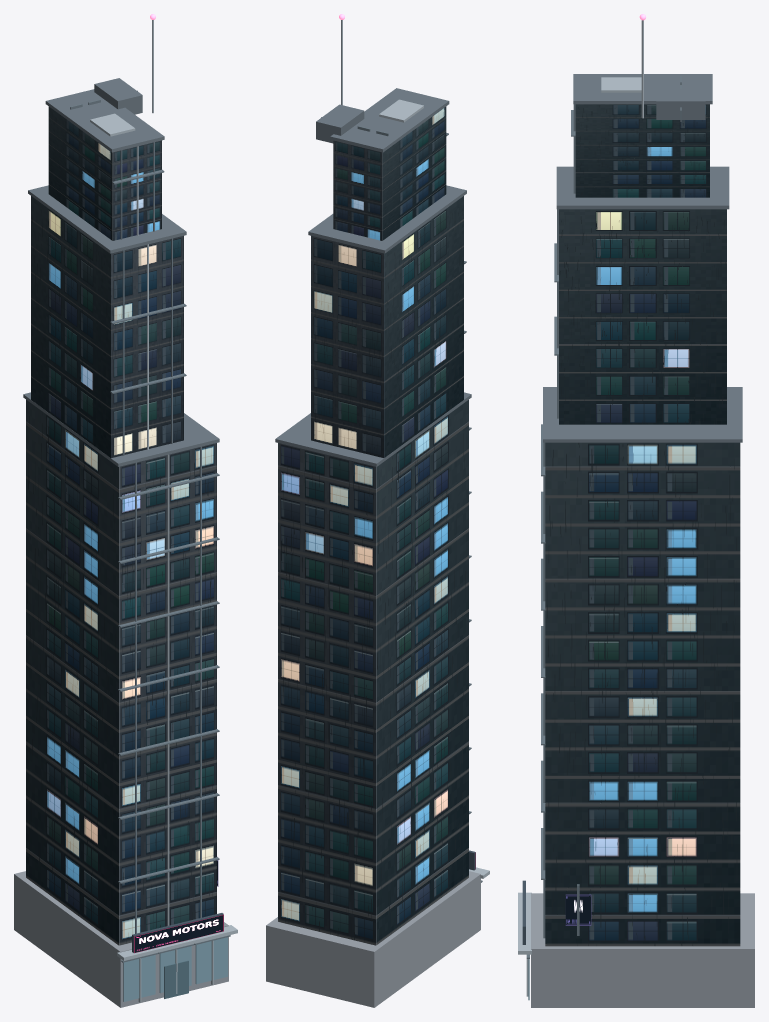
Rendered from building_06.glb.
The picture shows the model from 3 angles, left to right: view 1: azimuth 30°, elevation 25°; view 2: azimuth 150°, elevation 25°; view 3: azimuth 270°, elevation 25°; orthographic projection. The views are drawn at different scales.
Parts seen in each view (by area): view 1: facade_sideb_3, facade_0, facade_sideb_7, facade_4, roof, concrete, frame, facade_sideb_11, alum, facade_8, glass, sign_12 (+1 smaller); view 2: facade_back_1, facade_sideb_3, facade_sideb_7, facade_back_5, concrete, roof, facade_sideb_11, facade_back_9, alum; view 3: facade_side_2, facade_side_6, concrete, roof, facade_side_10, frame, alum, side_sign_13.
Part boxes in pixels (<box>): facade_sideb_3: <box>26,399,118,945</box>; facade_0: <box>119,443,216,945</box>; facade_sideb_7: <box>31,196,110,457</box>; facade_4: <box>111,236,183,457</box>; roof: <box>23,78,219,466</box>; concrete: <box>14,152,228,1007</box>; frame: <box>70,90,230,962</box>; facade_sideb_11: <box>48,106,112,240</box>; alum: <box>90,20,237,1002</box>; facade_8: <box>113,140,161,240</box>; glass: <box>123,937,227,1001</box>; sign_12: <box>134,914,223,953</box>; facade_back_1: <box>278,443,375,945</box>; facade_sideb_3: <box>376,400,468,945</box>; facade_sideb_7: <box>384,196,463,457</box>; facade_back_5: <box>311,236,383,457</box>; concrete: <box>266,152,480,1007</box>; roof: <box>275,88,471,466</box>; facade_sideb_11: <box>382,106,446,240</box>; facade_back_9: <box>333,140,381,240</box>; alum: <box>341,20,489,878</box>; facade_side_2: <box>545,442,740,946</box>; facade_side_6: <box>559,209,726,424</box>; concrete: <box>531,893,754,1007</box>; roof: <box>543,74,742,442</box>; facade_side_10: <box>575,104,709,197</box>; frame: <box>526,76,681,958</box>; alum: <box>518,20,643,996</box>; side_sign_13: <box>565,894,591,925</box>.
Size of the model in its own units: 16.75 by 127 by 27.7.
Materials: 24 (14 with a texture image).
